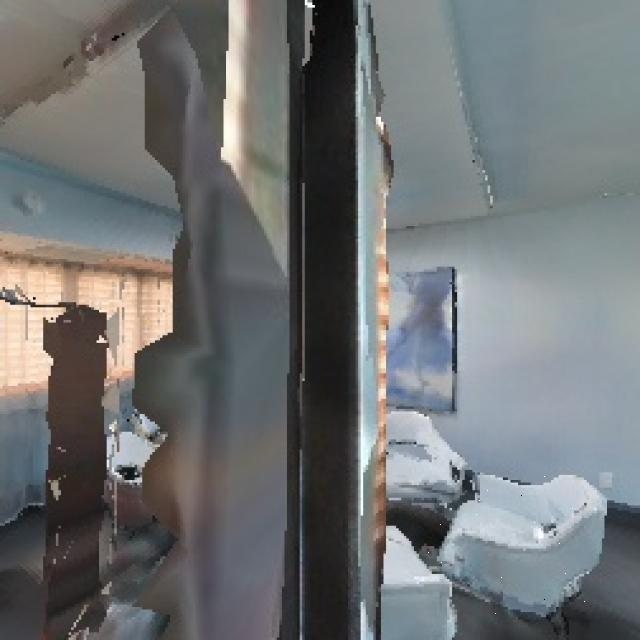chair: (418, 454, 611, 635)
